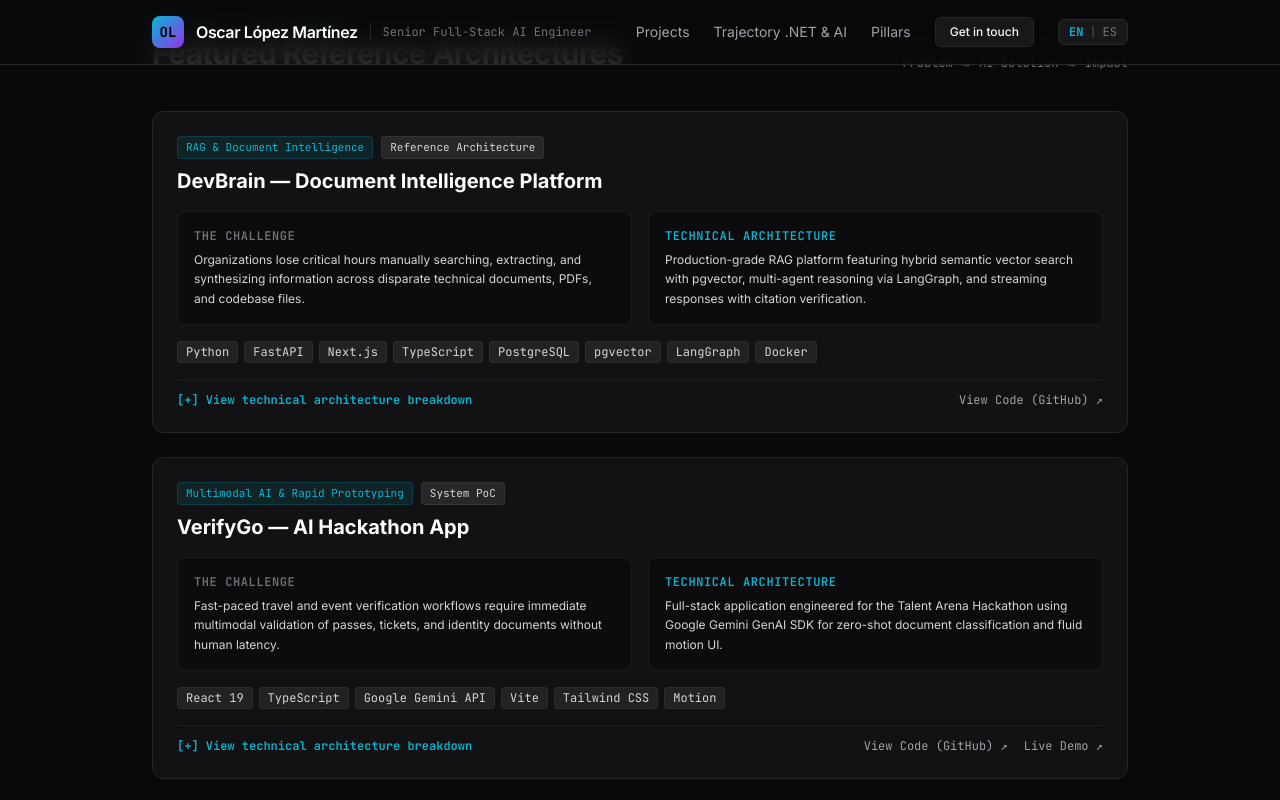
Test: HomePage - Shell, Foundation & i18n Integration › renders the Projects showcase section with reference architecture cards within HomePage
(page scrolled)
expect the heading "Featured Reference Architectures" is shown: met, box [152,35,623,71]
expect the heading "DevBrain — Document Intelligence Platform" is shown: met, box [177,166,602,194]
// Expand first project notes
Click the button "[+] View technical architecture breakdown" below "Python": {"x": 325, "y": 400} [177,392,472,408]
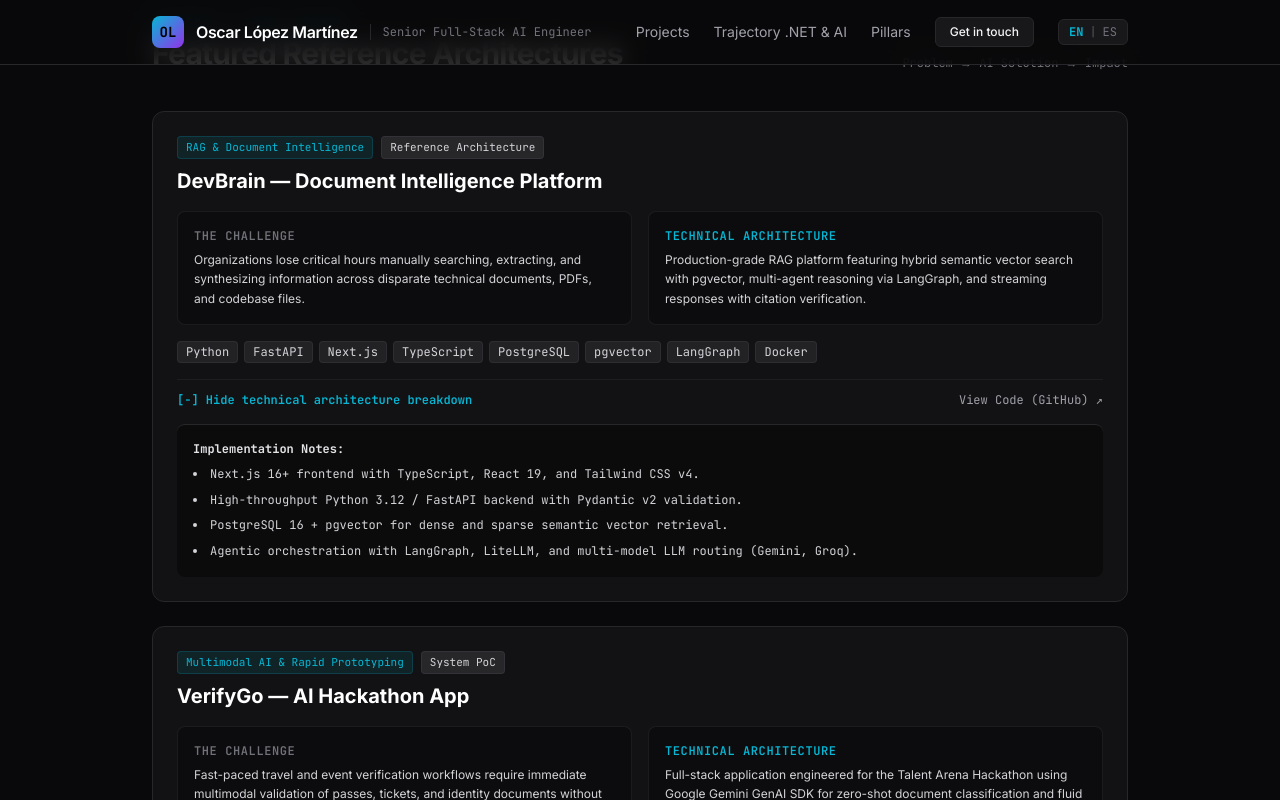
expect the button named "[+] view technical architecture breakdown" is expanded: met, box [177,392,472,408]
expect the list item "Next.js 16+ frontend with TypeScript" is shown: met, box [210,466,700,482]
